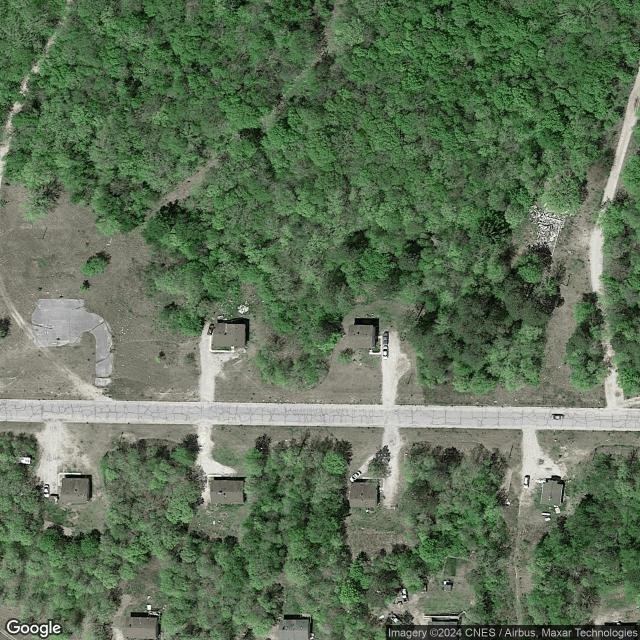Propane: (541, 512, 551, 516)
